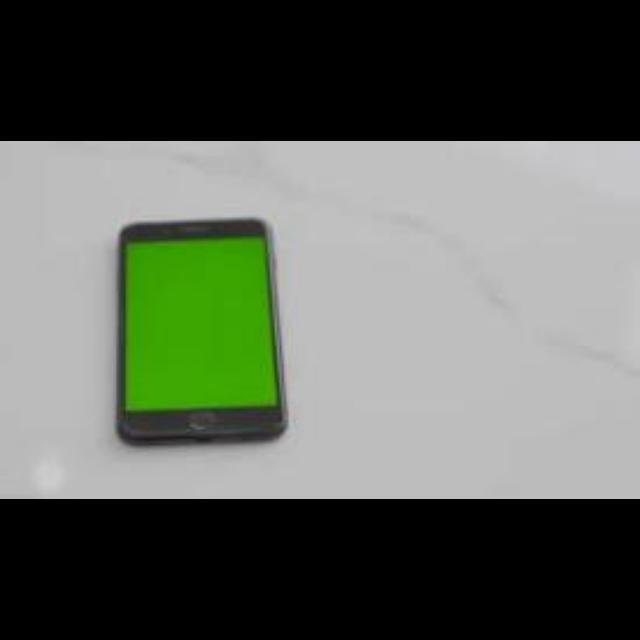phone: (115, 216, 287, 452)
